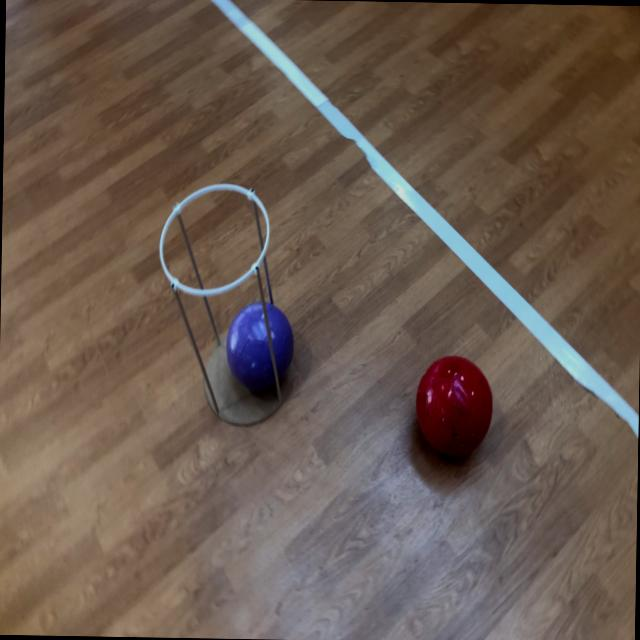purple_ball: (226, 299, 294, 394)
red_ball: (413, 354, 494, 460)
